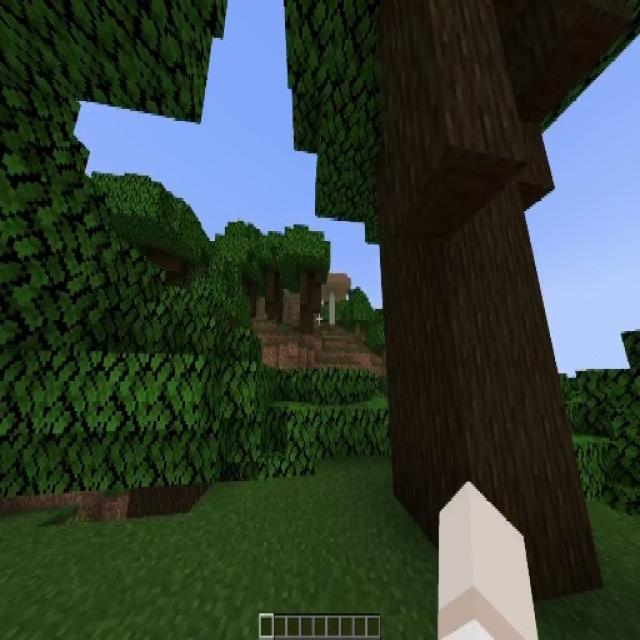dark_oak: (283, 228, 333, 329), (256, 237, 293, 323)
dark_oak_log: (377, 24, 597, 592), (299, 274, 321, 331), (264, 280, 282, 320)
